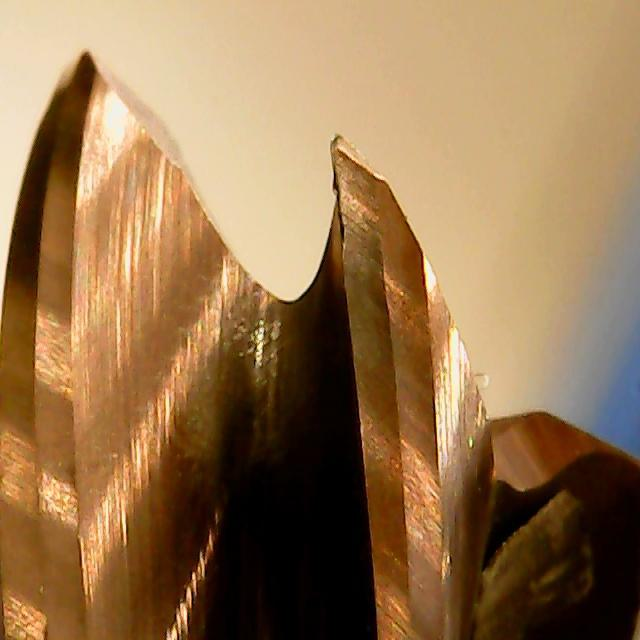Tool-wear-class-1: (302, 130, 443, 375)
